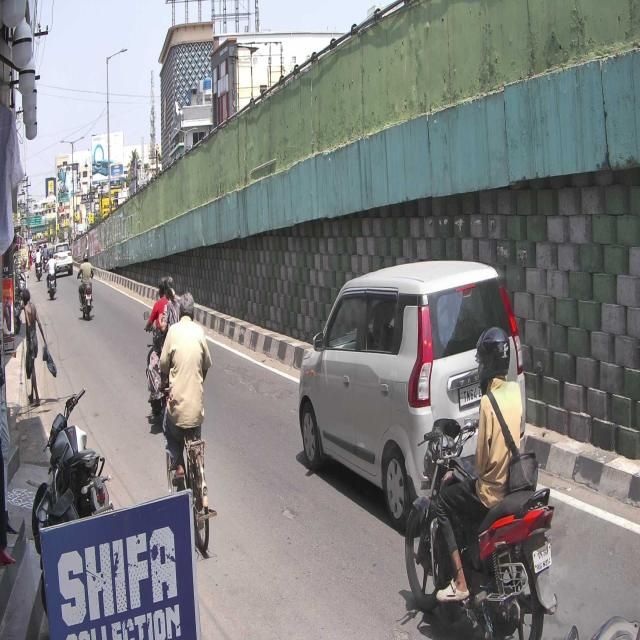single_rider: (404, 326, 555, 640)
